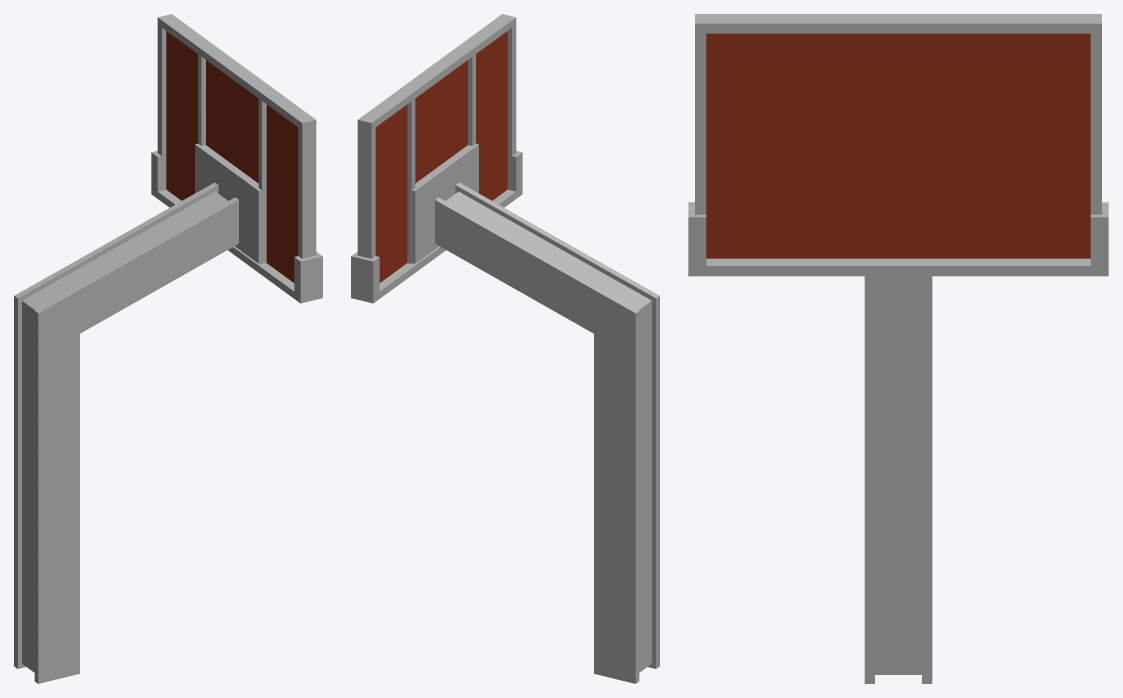
The model's file is RingStand.fbx.
3 renders of one model, left to right at view 1: azimuth 30°, elevation 25°; view 2: azimuth 150°, elevation 25°; view 3: azimuth 270°, elevation 25°, orthographic. The views are drawn at different scales.
Visible parts, largest first — view 1: Pole; view 2: Pole; view 3: Pole.
Boxes of the visible parts, bbox=[...] form: Pole: bbox=[14, 14, 322, 683]; Pole: bbox=[351, 14, 659, 683]; Pole: bbox=[688, 14, 1108, 683].
Size of the model in its own units: 160 by 381 by 186.
